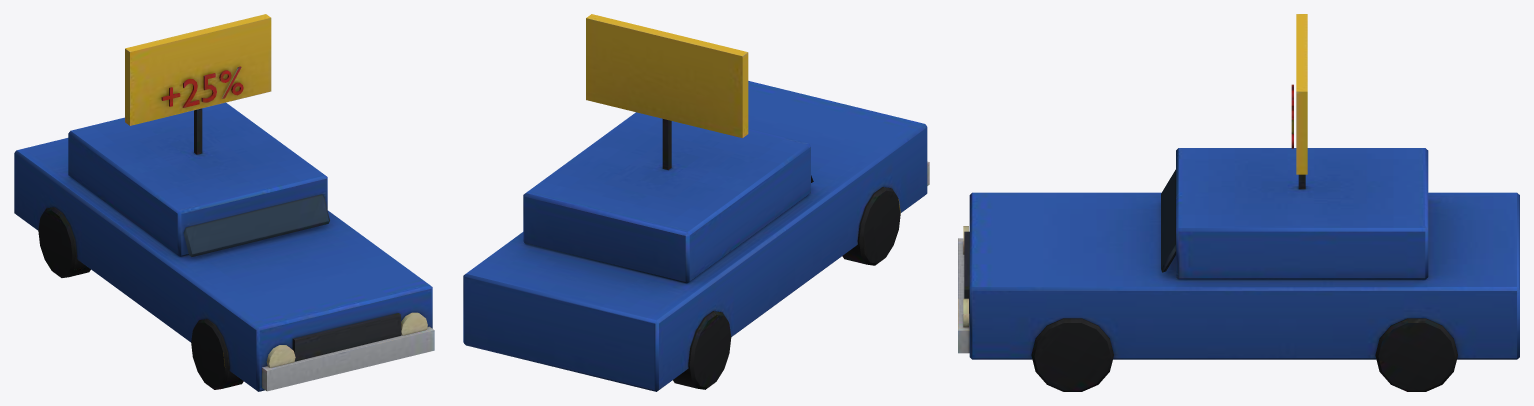
File: coche_arancel.glb
The picture shows the model from 3 angles, left to right: view 1: azimuth 30°, elevation 25°; view 2: azimuth 150°, elevation 25°; view 3: azimuth 270°, elevation 25°; orthographic projection. The views are drawn at different scales.
Parts seen in each view (by area): view 1: coche_arancel; view 2: coche_arancel; view 3: coche_arancel.
Part boxes in pixels (<box>): coche_arancel: <box>14,14,434,391</box>; coche_arancel: <box>463,14,929,391</box>; coche_arancel: <box>958,14,1519,391</box>.
Bounding box in the file's own units: 2.08 × 2.79 × 4.9.
1 material, 1 textured.
